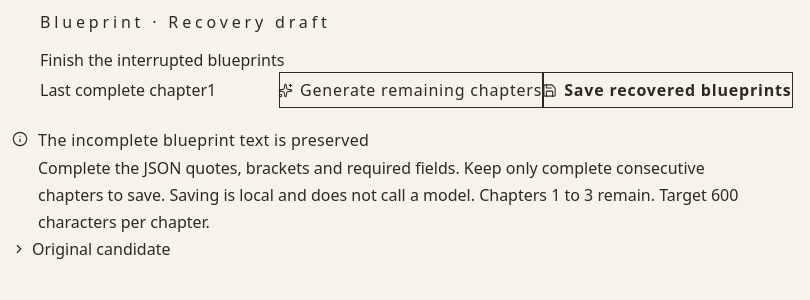
planning recovery editors › 英文界面下保存恢复蓝图被拒、又没带原因时，提示也是英文
Click the button "Save recovered blueprints". click: (668,90)
box: 543,72 -> 792,108
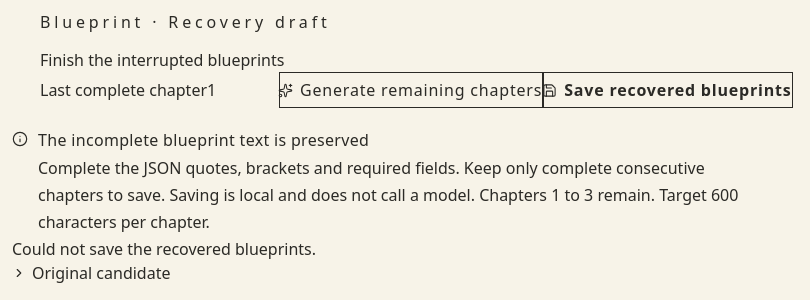
Check: the message "Could not save the recovered blueprints." is shown, box 12,238 -> 316,260
